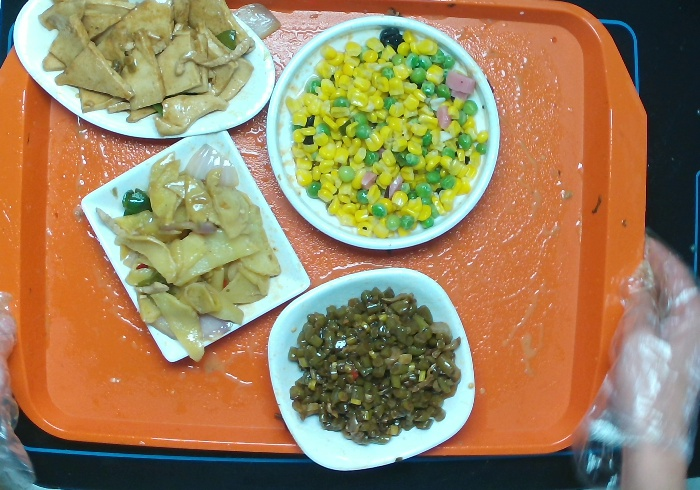HZYJPL-Si_Fang_Die: (81, 128, 310, 365)
HZYJPL-Si_Fang_Yuan_Die: (266, 267, 476, 470)
HZYJPL-Xiao_Yu_Die: (12, 1, 277, 140)
HZYJPL-Xiao_Yuan_Die: (264, 13, 503, 253)
